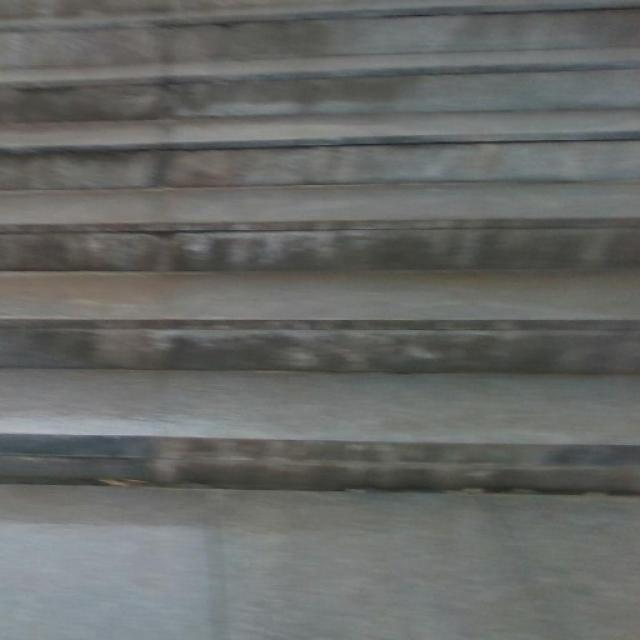Stairs: (0, 0, 639, 492)
